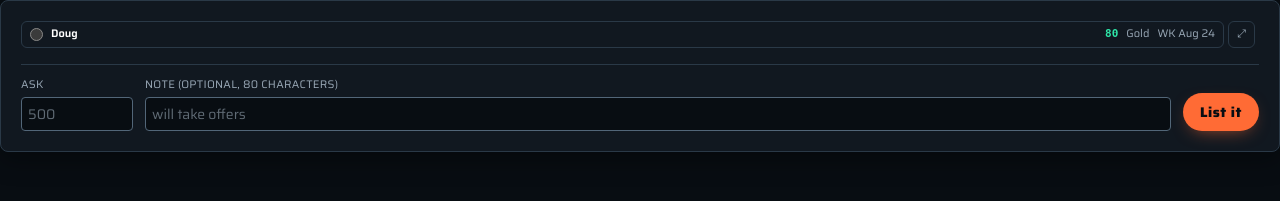
Test case: ListCardForm › refuses a price that isn't a whole number, without a round trip
Click the radio button labelled "Doug 80 Gold WK Aug 24" at (36, 34), box x1=30 y1=28 x2=43 y2=41
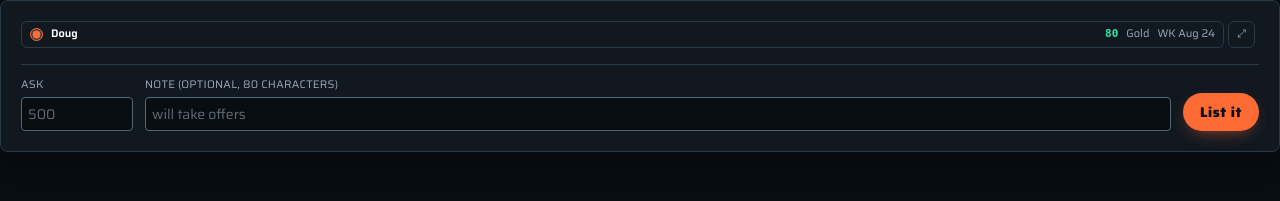
Type "5.5" into the field named "Asking price" at (77, 114), box x1=21 y1=97 x2=133 y2=131
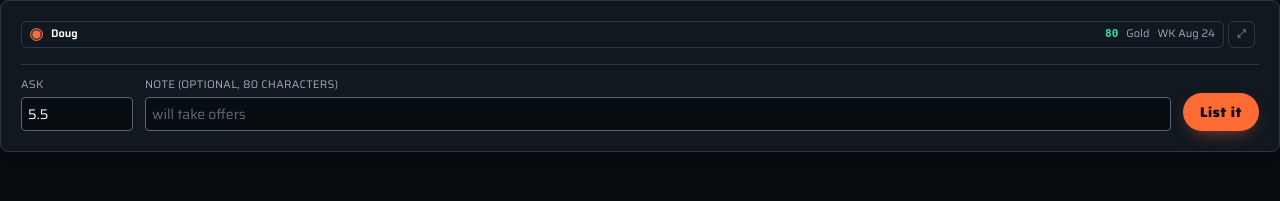
Click the button "List it" at (1221, 112), box x1=1183 y1=93 x2=1259 y2=131
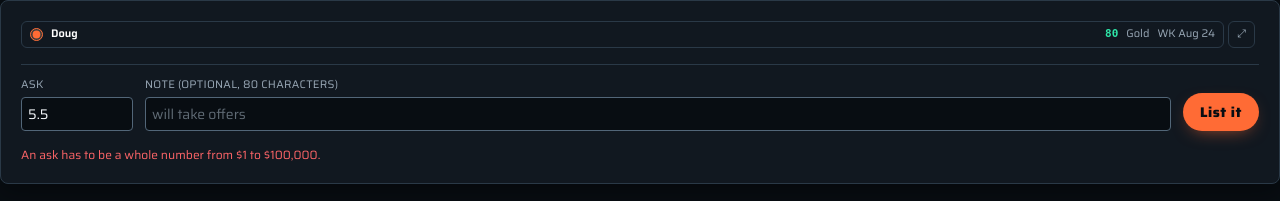
Expected: the text "An ask has to be a whole number from $1 to $100,000." is shown, x1=21 y1=145 x2=320 y2=164
